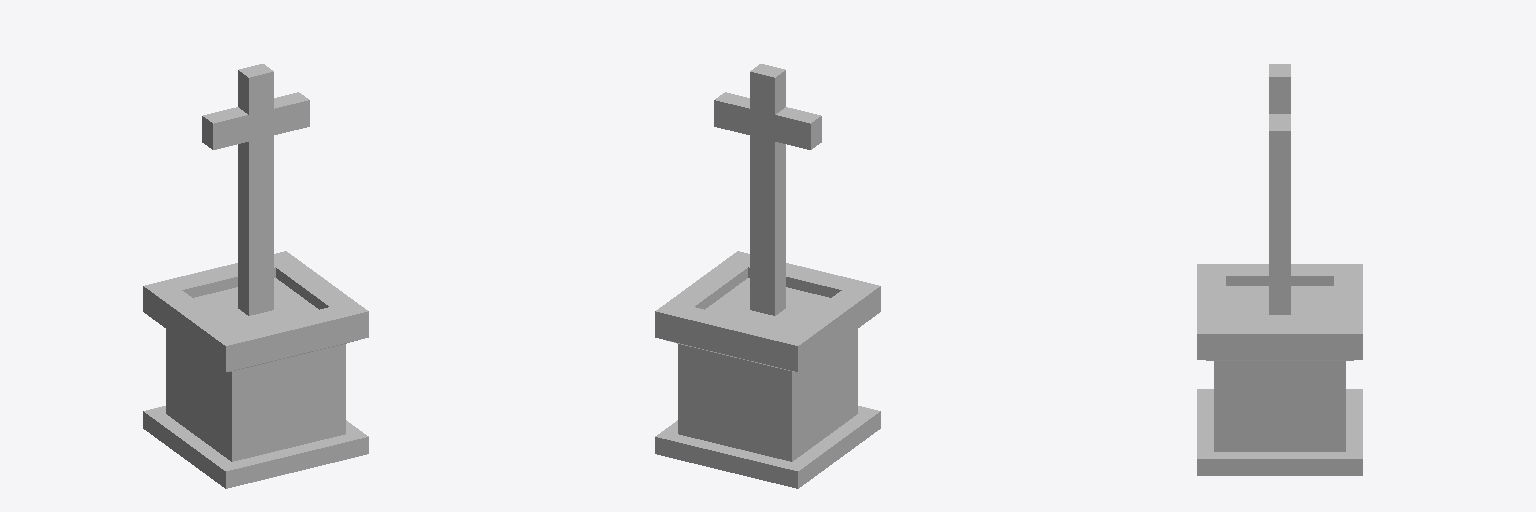
Rendered from crossWood.obj.
3 renders of one model, left to right at view 1: azimuth 30°, elevation 25°; view 2: azimuth 150°, elevation 25°; view 3: azimuth 270°, elevation 25°, orthographic.
Visible parts, largest first — view 1: crossWood; view 2: crossWood; view 3: crossWood.
Part boxes in pixels (x1,y1,x2,y2): crossWood: (143, 64, 368, 488); crossWood: (655, 64, 880, 488); crossWood: (1197, 64, 1362, 475).
Bounding box in the file's own units: 0.43 × 1.06 × 0.43.